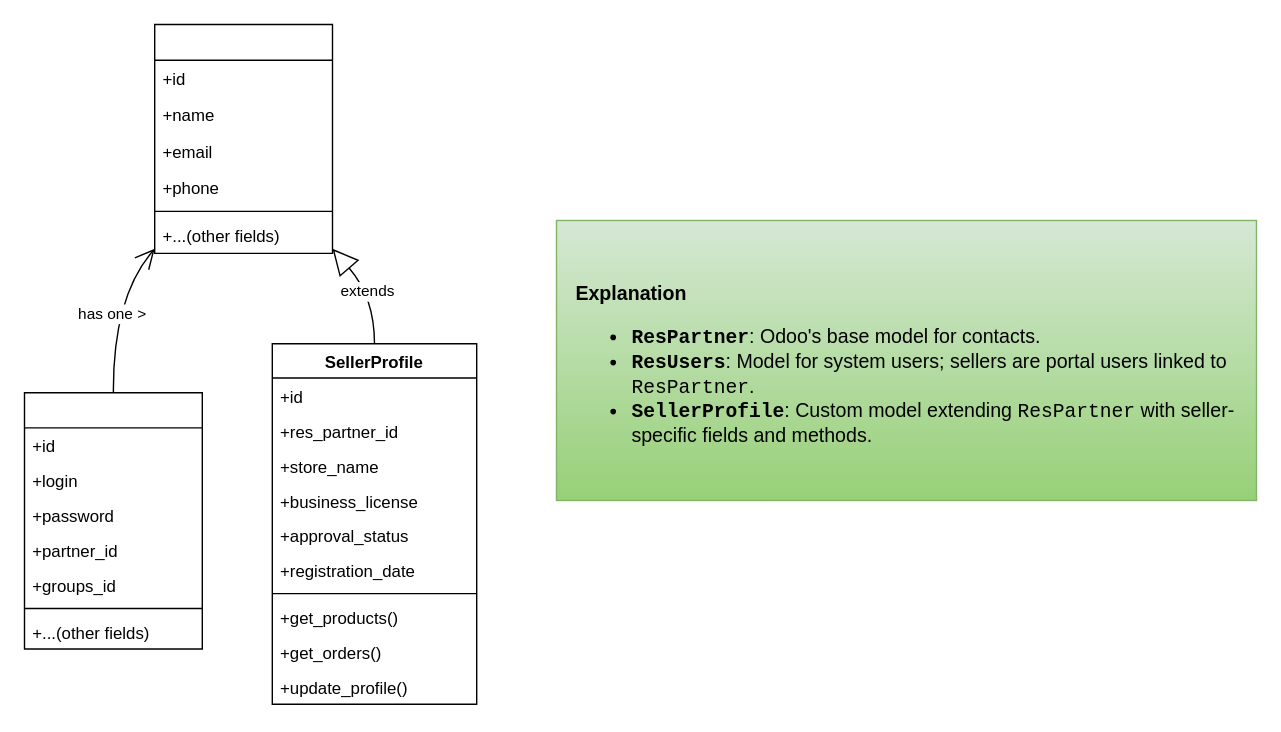
This 1281x732 diagram has some shape labels left out. Each missing label, with the box of its shape:
ResPartner: (153, 23, 332, 253)
ResUsers: (23, 391, 202, 649)
